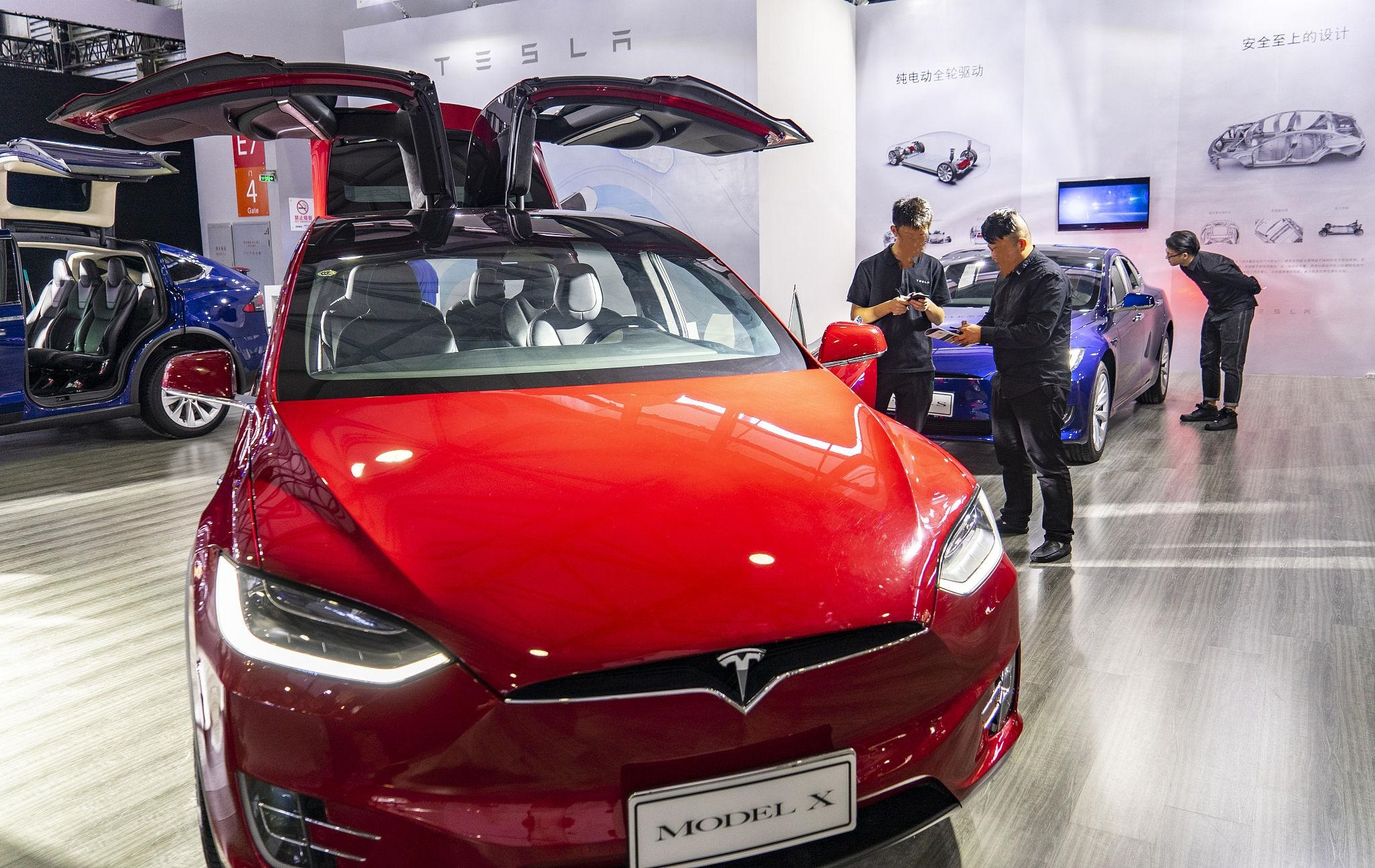Tesla: (716, 646, 767, 703)
